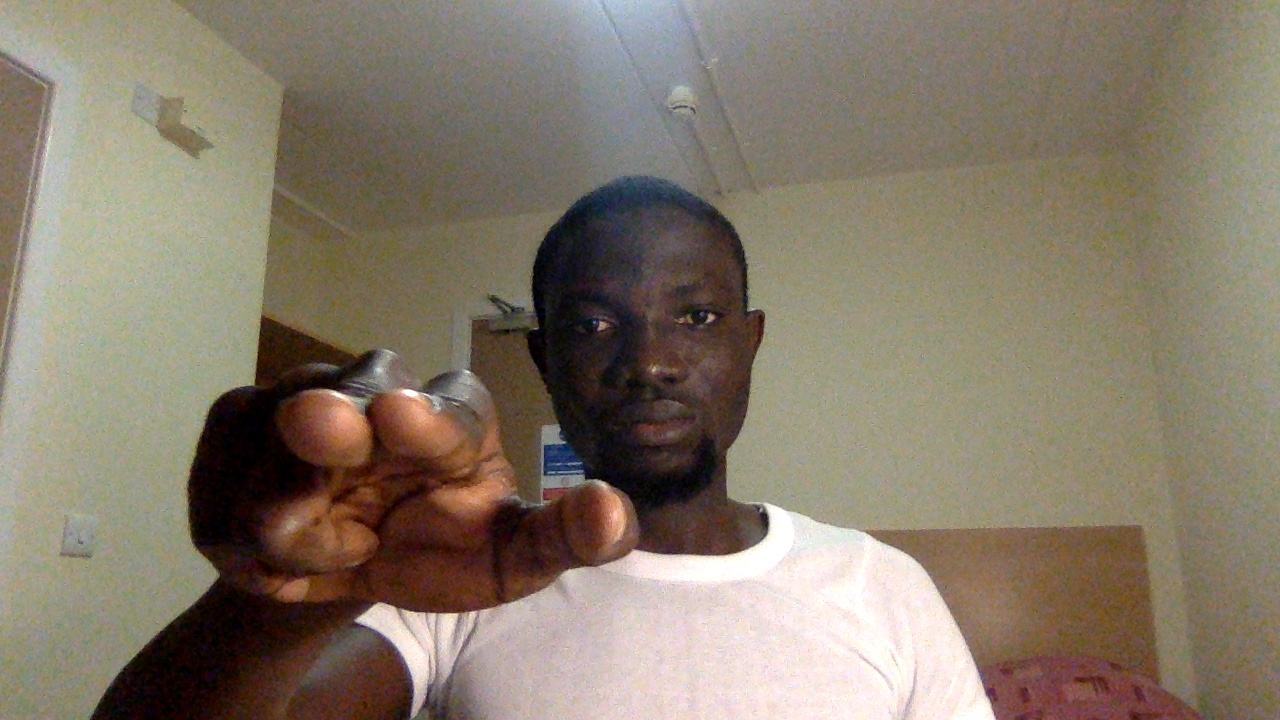No: (182, 339, 638, 622)
